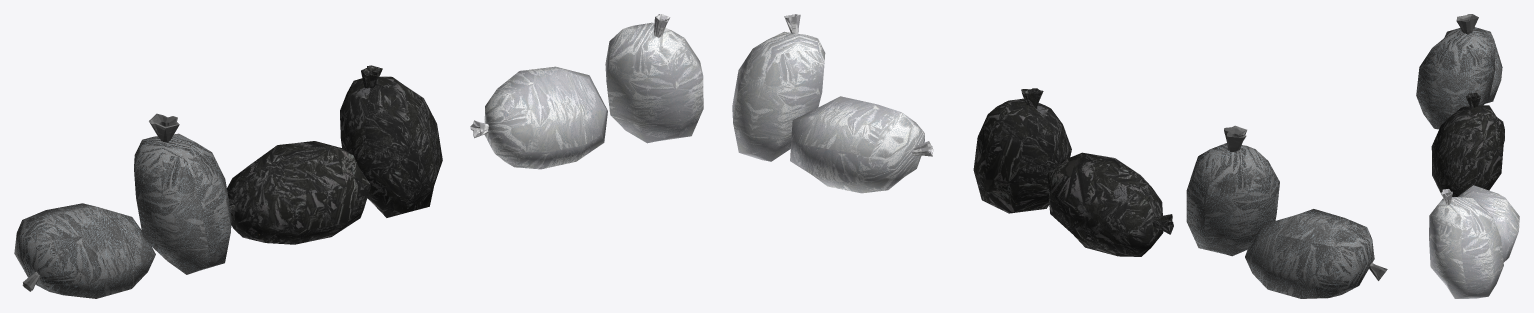
File: trashbags.dae
3 views of the same model, side by side, from view 1: azimuth 30°, elevation 25°; view 2: azimuth 150°, elevation 25°; view 3: azimuth 270°, elevation 25° (orthographic). The views are drawn at different scales.
Visible parts, largest first — view 1: group_2, group_12, group_1, group_16, group_9, group_6; view 2: group_9, group_2, group_16, group_6, group_1, group_12; view 3: group_6, group_12, group_1 (×2), group_9, group_16, group_13 (×2), group_5.
Boxes of the visible parts, x1,y1,x2,y2 form: group_2: [227, 141, 370, 244]; group_12: [134, 133, 231, 274]; group_1: [340, 76, 442, 217]; group_16: [14, 203, 155, 298]; group_9: [484, 66, 607, 169]; group_6: [605, 22, 703, 143]; group_9: [790, 96, 924, 193]; group_2: [1047, 152, 1163, 256]; group_16: [1245, 209, 1374, 298]; group_6: [732, 31, 825, 161]; group_1: [973, 98, 1071, 213]; group_12: [1186, 143, 1279, 256]; group_6: [1429, 197, 1503, 298]; group_12: [1416, 29, 1495, 129]; group_1 (×2): [1431, 92, 1503, 196]; group_9: [1458, 185, 1519, 262]; group_16: [1444, 27, 1502, 103]; group_13 (×2): [1456, 14, 1478, 34]; group_5: [1441, 189, 1452, 205].
Bounding box in the file's own units: 142 × 25.79 × 30.58.
